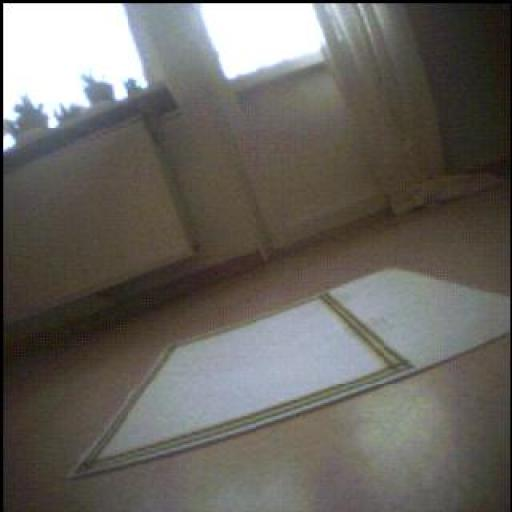Pad: (73, 270, 511, 478)
